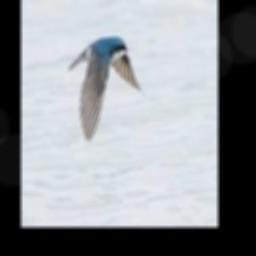Swallow: (68, 35, 144, 140)
